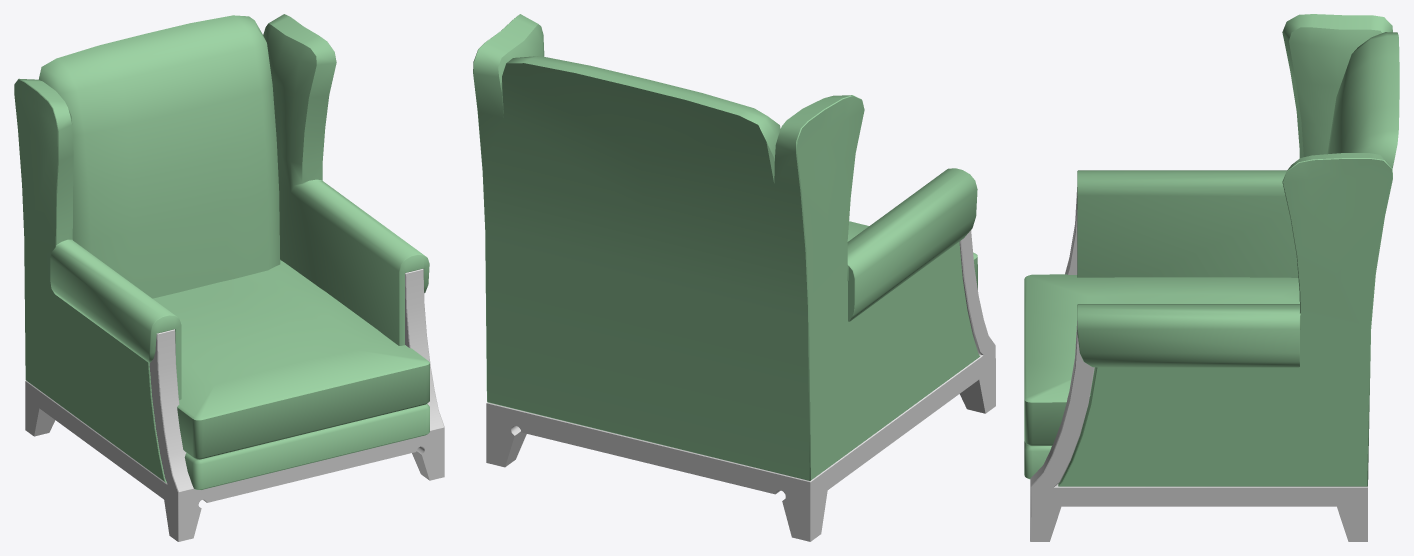
The model's file is MZHSF01.FBX.
The picture shows the model from 3 angles, left to right: view 1: azimuth 30°, elevation 25°; view 2: azimuth 150°, elevation 25°; view 3: azimuth 270°, elevation 25°; orthographic projection. The views are drawn at different scales.
Parts seen in each view (by area): view 1: MZHSF01; view 2: MZHSF01; view 3: MZHSF01.
Part boxes in pixels (box(x1,y1,x2,y2)): MZHSF01: box(14, 14, 444, 541); MZHSF01: box(473, 14, 995, 541); MZHSF01: box(1024, 14, 1399, 541).
Bounding box in the file's own units: 91 × 96 × 110.
